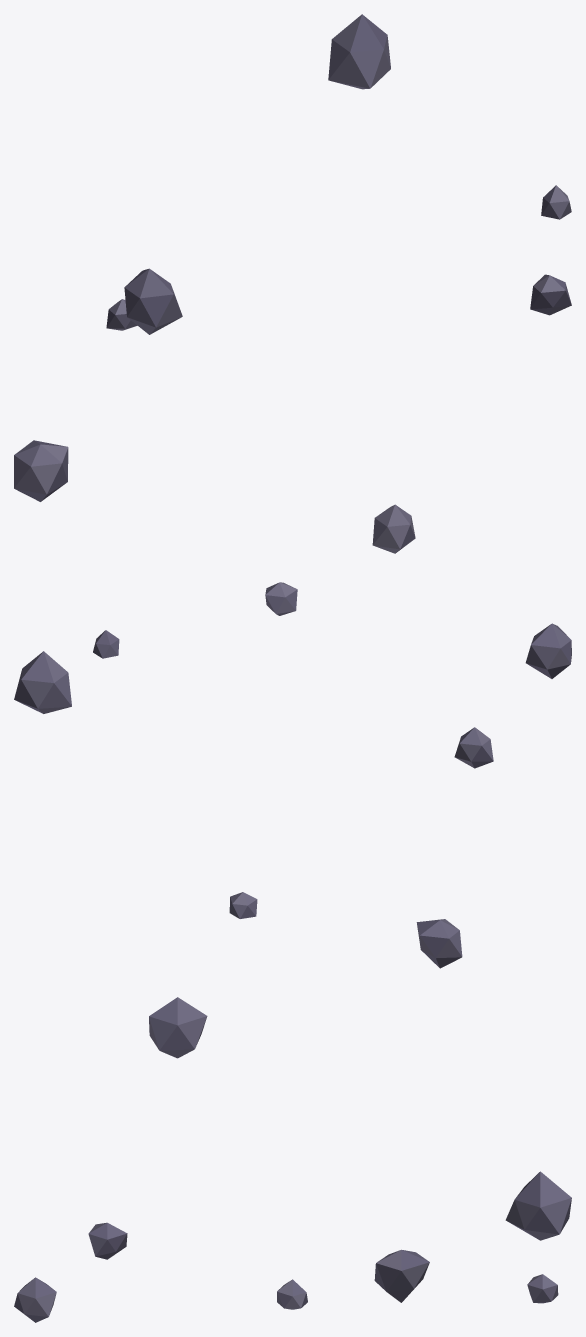
Rendered from WardenRocks.fbx.
3 views of the same model, one above another, from view 1: azimuth 30°, elevation 25°; view 2: azimuth 150°, elevation 25°; view 3: azimuth 270°, elevation 25° (orthographic). The views are drawn at different scales.
Visible parts, largest first — view 1: Rock.2, Rock.4, Rock.5, Rock.6, Rock.7, Rock.1; view 2: Rock.2, Rock.5, Rock.4, Rock.6, Rock.7, Rock.3, Rock.1; view 3: Rock.2, Rock.5, Rock.4, Rock.6, Rock.7, Rock.1, Rock.3.
Part boxes in pixels (left/top/right/bottom): Rock.2: left=328, top=14, right=390, bottom=89; Rock.4: left=14, top=440, right=68, bottom=501; Rock.5: left=124, top=268, right=182, bottom=334; Rock.6: left=372, top=504, right=415, bottom=553; Rock.7: left=530, top=274, right=571, bottom=315; Rock.1: left=541, top=185, right=571, bottom=219; Rock.2: left=14, top=651, right=71, bottom=713; Rock.5: left=525, top=623, right=571, bottom=678; Rock.4: left=416, top=919, right=462, bottom=968; Rock.6: left=454, top=727, right=493, bottom=768; Rock.7: left=265, top=582, right=297, bottom=615; Rock.3: left=229, top=892, right=257, bottom=918; Rock.1: left=93, top=630, right=119, bottom=658; Rock.2: left=505, top=1171, right=571, bottom=1240; Rock.5: left=149, top=997, right=207, bottom=1058; Rock.4: left=374, top=1249, right=429, bottom=1302; Rock.6: left=14, top=1277, right=56, bottom=1322; Rock.7: left=88, top=1222, right=127, bottom=1259; Rock.1: left=277, top=1279, right=307, bottom=1309; Rock.3: left=527, top=1274, right=558, bottom=1303.
Bounding box in the file's own units: 6.41 × 4.1 × 6.66.
